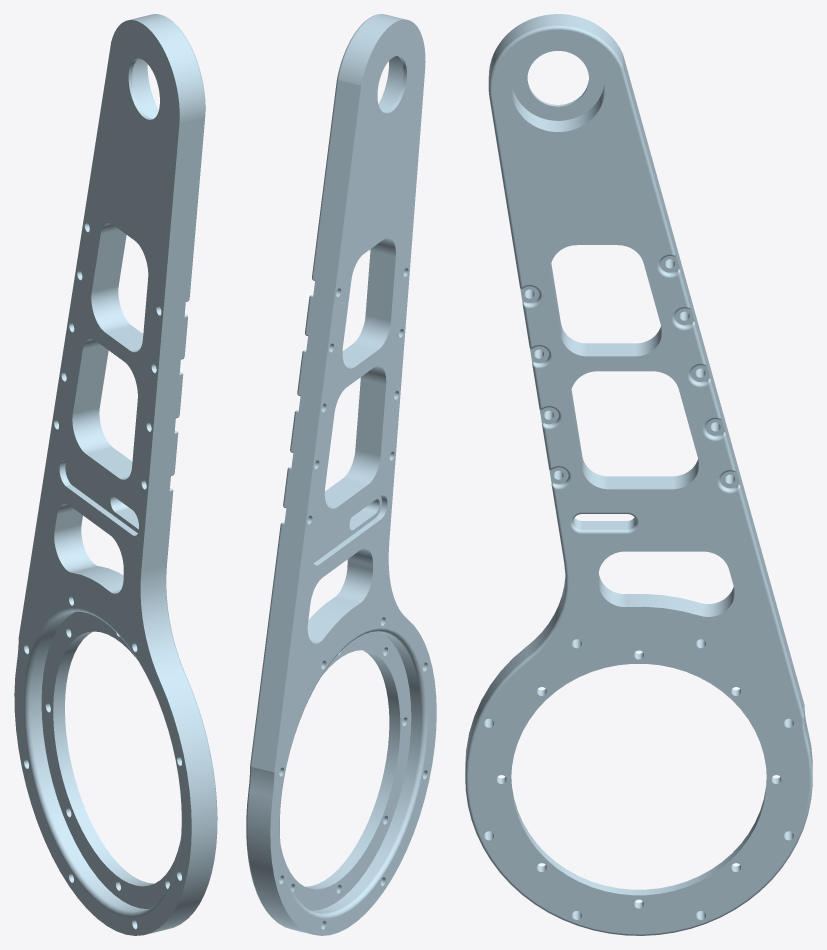
3 renders of one model, left to right at view 1: azimuth 30°, elevation 25°; view 2: azimuth 150°, elevation 25°; view 3: azimuth 270°, elevation 25°, orthographic. The views are drawn at different scales.
Visible parts, largest first — view 1: mesh3858, mesh3985, mesh3895, mesh3847, mesh3856, mesh3854, mesh3857, mesh3891, mesh3894, mesh3863, mesh3859, mesh3879 (+9 smaller); view 2: mesh3858, mesh3969, mesh3847, mesh3856, mesh3895, mesh3857, mesh3854, mesh3865, mesh3891, mesh3861, mesh3869, mesh3882 (+9 smaller); view 3: mesh3993, mesh3907, mesh3969, mesh3896, mesh3854, mesh3891, mesh3908, mesh3903, mesh3869, mesh3866, mesh3918, mesh3895 (+2 smaller).
Part boxes in pixels (left/top/right/bottom): mesh3858: left=14, top=20, right=191, bottom=935; mesh3985: left=141, top=118, right=203, bottom=570; mesh3895: left=145, top=676, right=215, bottom=934; mesh3847: left=41, top=611, right=180, bottom=908; mesh3856: left=30, top=611, right=148, bottom=911; mesh3854: left=53, top=631, right=154, bottom=886; mesh3857: left=24, top=607, right=182, bottom=917; mesh3891: left=130, top=14, right=203, bottom=123; mesh3894: left=140, top=589, right=184, bottom=681; mesh3863: left=73, top=345, right=108, bottom=413; mesh3859: left=92, top=229, right=126, bottom=291; mesh3879: left=54, top=524, right=98, bottom=572; mesh3858: left=270, top=19, right=436, bottom=935; mesh3969: left=251, top=80, right=360, bottom=771; mesh3847: left=280, top=631, right=411, bottom=910; mesh3856: left=311, top=631, right=421, bottom=913; mesh3895: left=247, top=790, right=312, bottom=934; mesh3857: left=279, top=628, right=427, bottom=918; mesh3854: left=305, top=650, right=400, bottom=889; mesh3865: left=355, top=379, right=385, bottom=455; mesh3891: left=338, top=14, right=405, bottom=85; mesh3861: left=365, top=251, right=395, bottom=320; mesh3869: left=307, top=597, right=358, bottom=637; mesh3882: left=334, top=565, right=372, bottom=603; mesh3993: left=468, top=30, right=809, bottom=933; mesh3907: left=512, top=48, right=604, bottom=120; mesh3969: left=623, top=56, right=804, bottom=715; mesh3896: left=465, top=658, right=812, bottom=935; mesh3854: left=511, top=779, right=766, bottom=895; mesh3891: left=488, top=14, right=623, bottom=84; mesh3908: left=511, top=84, right=604, bottom=131; mesh3903: left=738, top=487, right=804, bottom=718; mesh3869: left=627, top=594, right=699, bottom=615; mesh3866: left=608, top=476, right=672, bottom=489; mesh3918: left=488, top=25, right=622, bottom=98; mesh3895: left=465, top=647, right=812, bottom=770.
Bounding box in the file's own units: 0.00924 × 0.3033 × 0.105.
